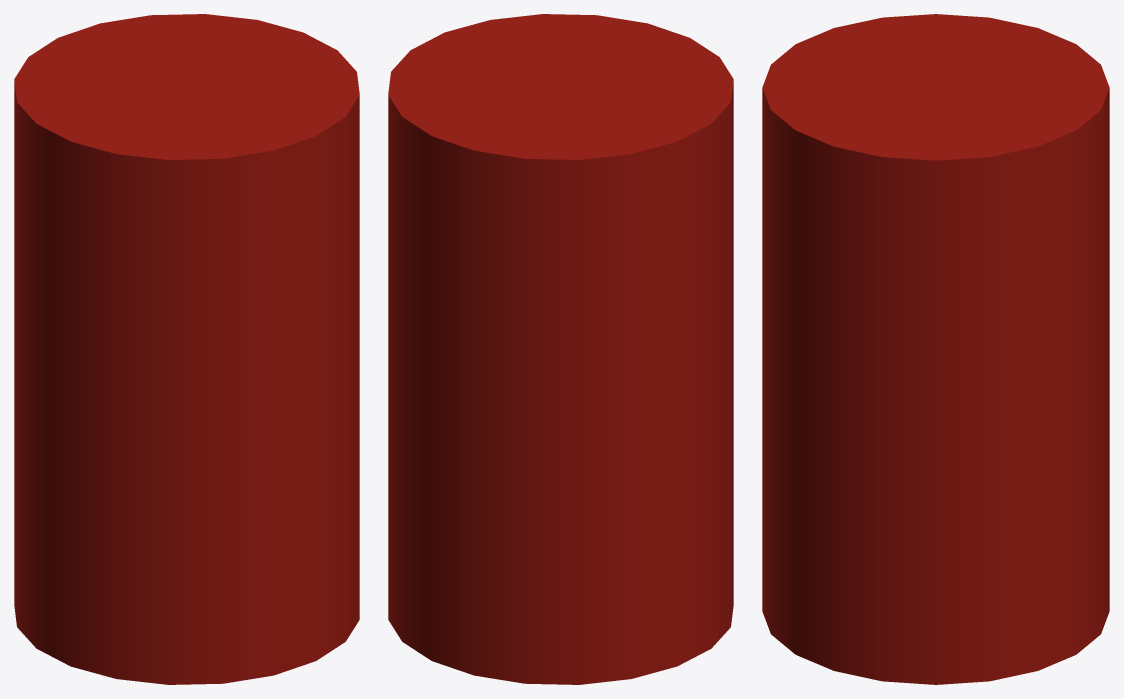
File: pillar_shaft.glb
The picture shows the model from 3 angles, left to right: view 1: azimuth 30°, elevation 25°; view 2: azimuth 150°, elevation 25°; view 3: azimuth 270°, elevation 25°; orthographic projection.
Visible parts, largest first — view 1: pillar_shaft; view 2: pillar_shaft; view 3: pillar_shaft.
Part boxes in pixels (x1=…): pillar_shaft: x1=14, y1=14, x2=359, y2=684; pillar_shaft: x1=388, y1=14, x2=733, y2=684; pillar_shaft: x1=762, y1=14, x2=1109, y2=684.
Size of the model in its own units: 0.6 by 1 by 0.6.
